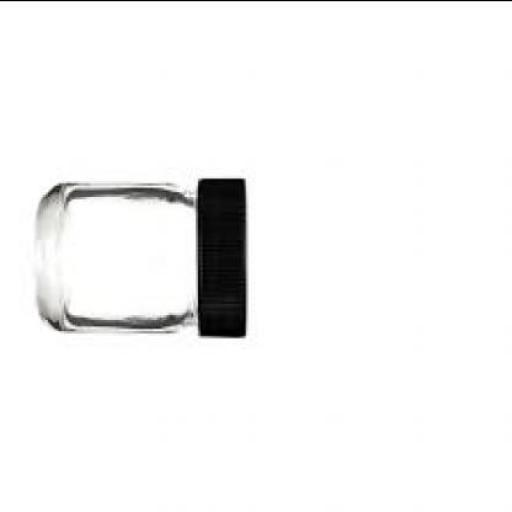glass: (39, 182, 202, 332)
plastic: (196, 182, 250, 339)
